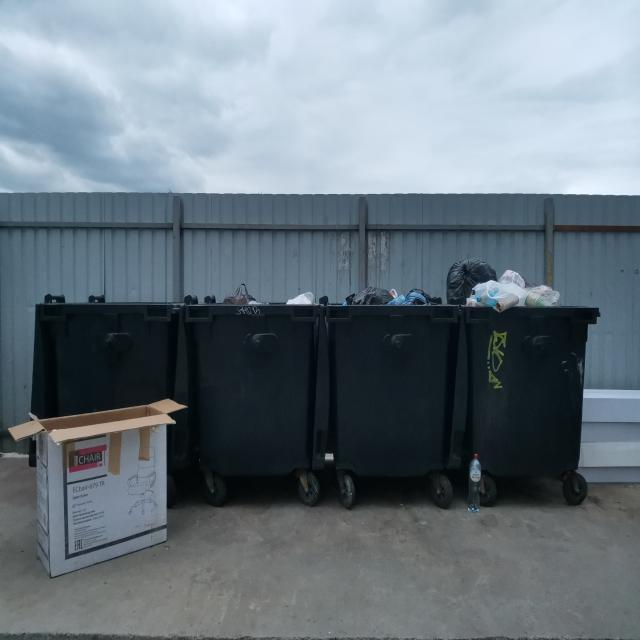bin: (462, 301, 598, 495), (193, 302, 319, 494), (330, 305, 456, 484), (34, 294, 174, 408)
plastic: (449, 248, 564, 299), (190, 261, 320, 304), (330, 276, 445, 304)
